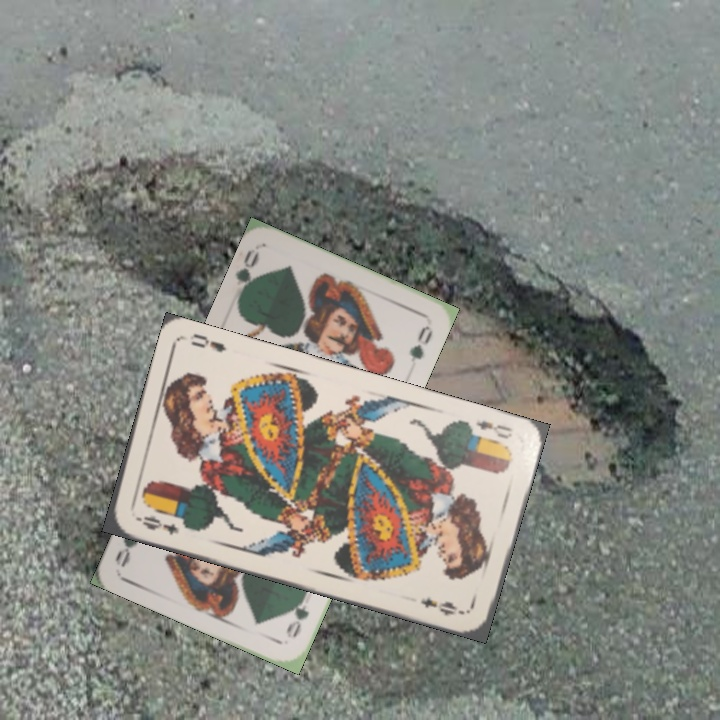EO: (131, 512, 182, 538), (471, 416, 515, 442)
GO: (232, 245, 263, 303), (282, 586, 312, 642)
